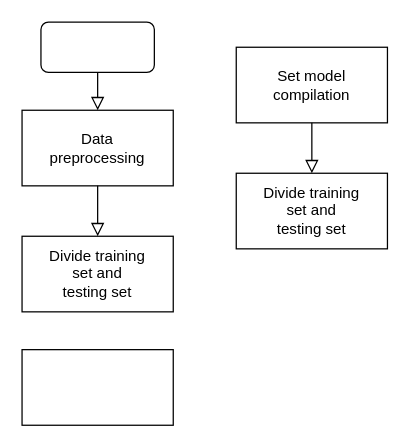
The diagram is 410 pixels wide and 447 high, and some of its shapes have lost their labels. Here are the shapes that lost their labels. From the top down, the centre of each, then its label:
At [97,46]: "Start".
At [97,386]: "Build DSCNN model".
